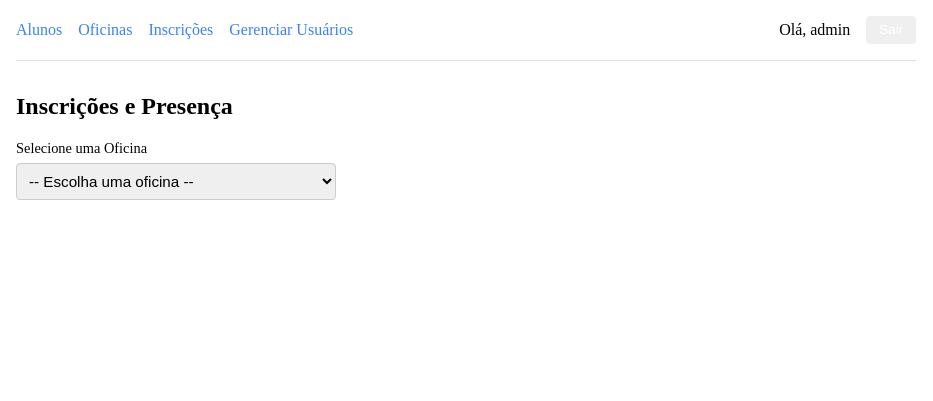
InscricoesView › exibe mensagem de vazio quando não há inscritos na oficina
The image size is (933, 401).
Select "Java Básico — 10/07/2026" in the dropdown with id "sel-oficina" at (176, 182), box [16,163,336,200]
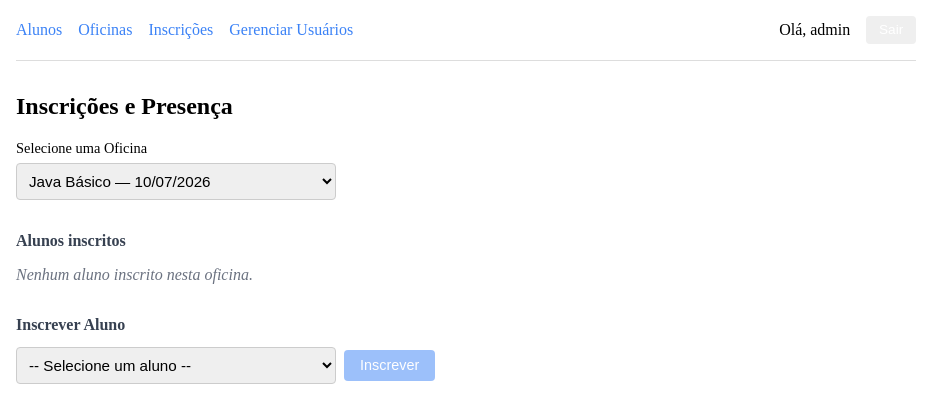
Expected: the text "Nenhum aluno inscrito nesta oficina" is shown, [16,266,253,283]
